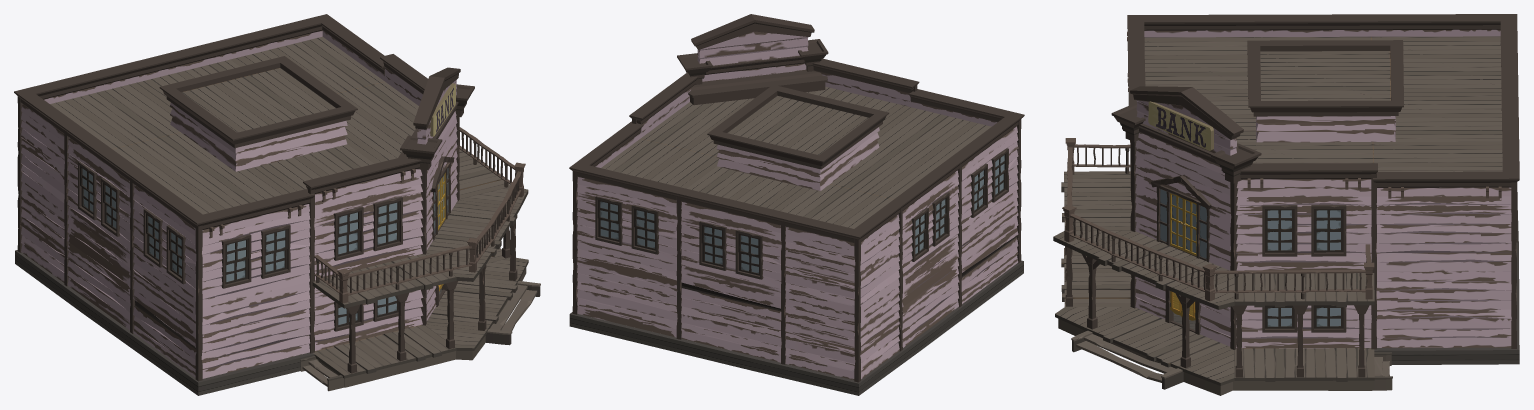
Rendered from Bank.glb.
3 renders of one model, left to right at view 1: azimuth 30°, elevation 25°; view 2: azimuth 150°, elevation 25°; view 3: azimuth 270°, elevation 25°, orthographic. The views are drawn at different scales.
Visible parts, largest first — view 1: Bank, SM_Bld_Saloon_Glass, SM_Bld_Sign_17; view 2: Bank, SM_Bld_Saloon_Glass; view 3: Bank, SM_Bld_Saloon_Glass, SM_Bld_Sign_17, SM_Bld_Saloon_UpstairsDoor_01, SM_Bld_Saloon_UpstairsDoor_02_Glass, SM_Bld_Saloon_UpstairsDoor_02, SM_Bld_Saloon_UpstairsDoor_01_Glass.
Part boxes in pixels (x1,y1,x2,y2): Bank: (14,14,540,395); SM_Bld_Saloon_Glass: (82,168,448,324); SM_Bld_Sign_17: (430,83,455,136); Bank: (569,14,1024,395); SM_Bld_Saloon_Glass: (600,155,1004,273); Bank: (1053,14,1519,395); SM_Bld_Saloon_Glass: (1160,189,1340,326); SM_Bld_Sign_17: (1148,101,1213,150); SM_Bld_Saloon_UpstairsDoor_01: (1170,193,1183,250); SM_Bld_Saloon_UpstairsDoor_02_Glass: (1185,200,1196,253); SM_Bld_Saloon_UpstairsDoor_02: (1183,199,1196,255); SM_Bld_Saloon_UpstairsDoor_01_Glass: (1172,194,1182,247).
Size of the model in its own units: 16.72 by 9.91 by 16.68.
Materials: 5 (5 with a texture image).
